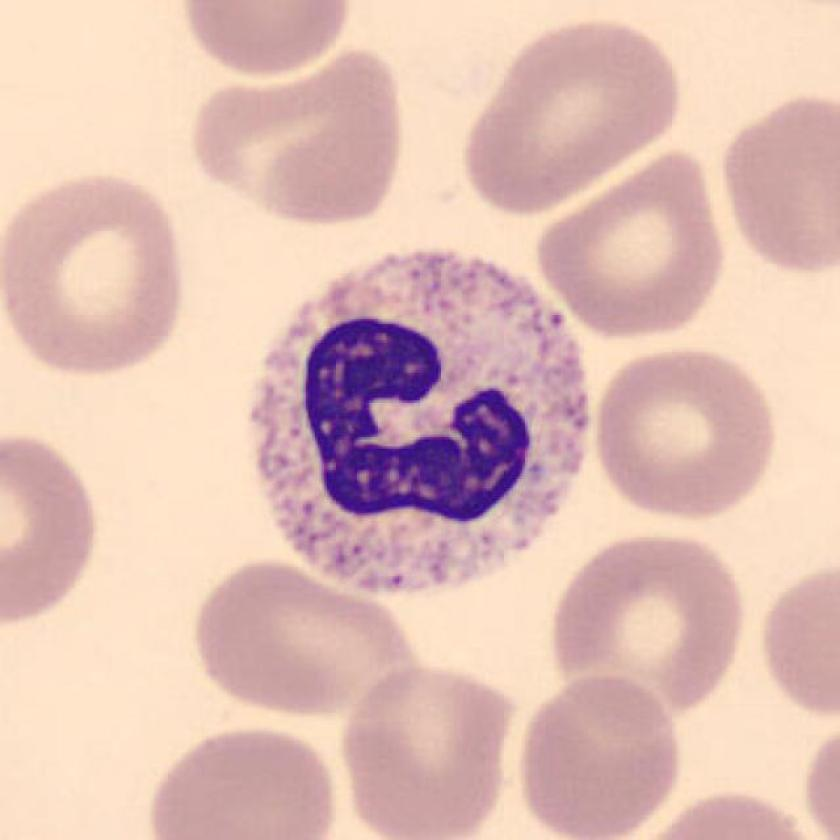neutrophil: (252, 250, 594, 601)
